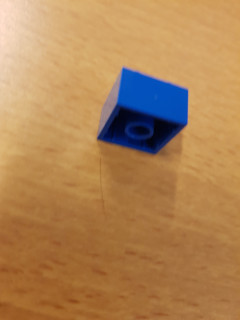2x2 blue: (95, 64, 190, 157)
